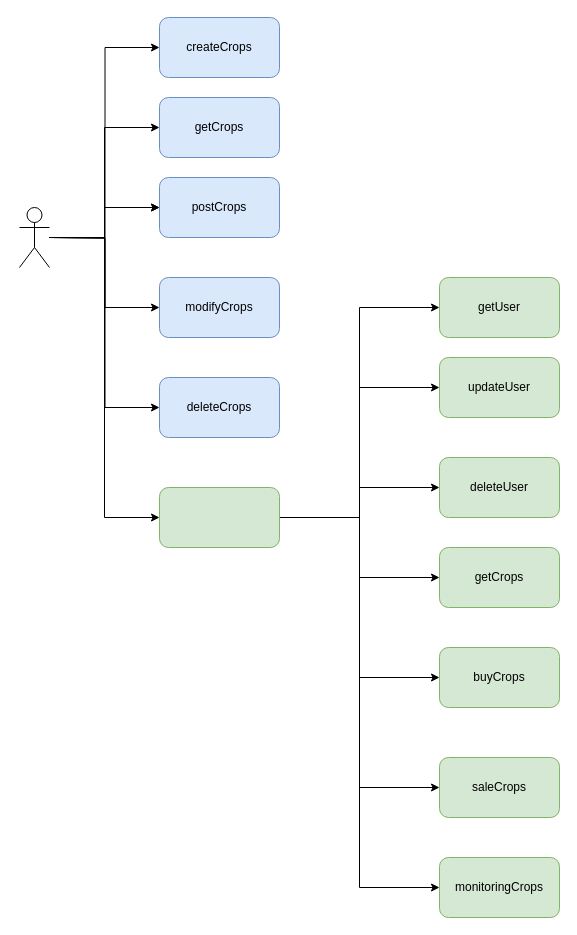
Some shapes in this 577 by 935 pixel diagram are drawn without their labels. The shapes that lost their labels are listed below. From the top down, each one's centre as x and y in pixels, then its label:
the point at 34,237: Admin
the point at 219,517: createUser
